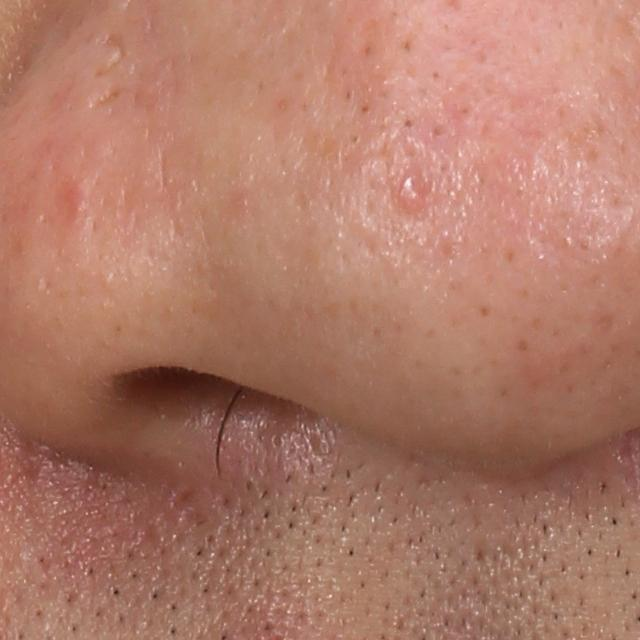atrophic_scar: (95, 28, 129, 78), (85, 81, 131, 114)
papule: (392, 173, 430, 213)
